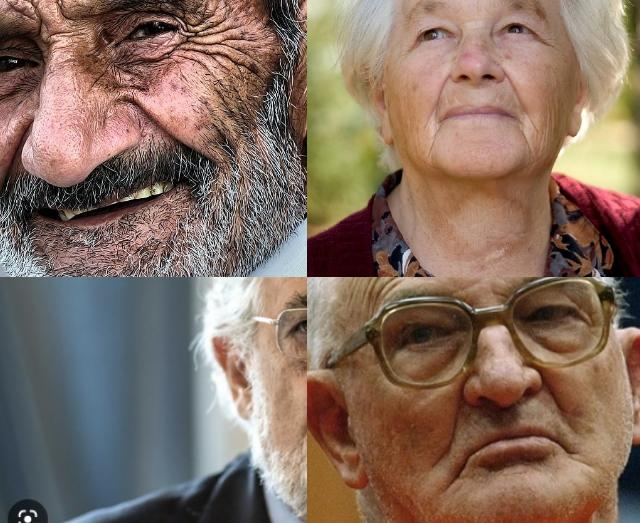bunny_line: (88, 68, 110, 94)
crows_feet: (185, 14, 222, 58), (534, 24, 554, 53), (402, 37, 418, 57)
forehead: (363, 277, 398, 304)
frown_line: (28, 0, 52, 40), (56, 0, 79, 30)
gummy_smile: (128, 98, 176, 150), (0, 131, 24, 197), (442, 390, 466, 456), (542, 378, 566, 416), (429, 76, 448, 116), (498, 69, 522, 99)
masseter: (210, 83, 250, 133), (544, 108, 558, 140)
sad_smile: (445, 459, 469, 493), (514, 129, 538, 154), (558, 441, 584, 464), (429, 123, 447, 153)
